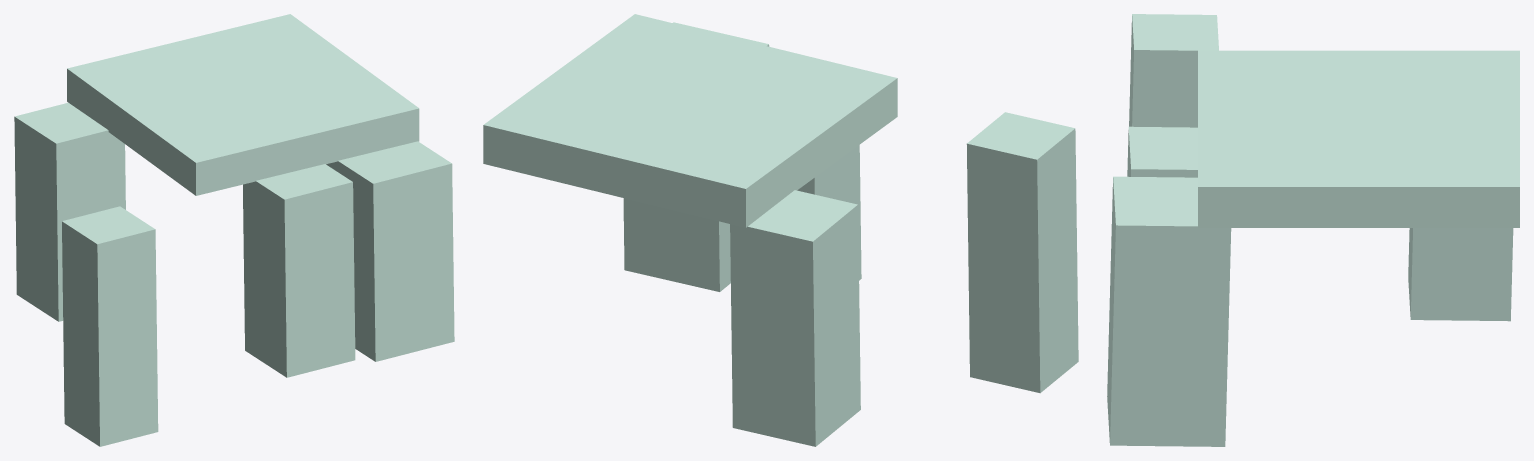
3 views of the same model, side by side, from view 1: azimuth 30°, elevation 25°; view 2: azimuth 150°, elevation 25°; view 3: azimuth 270°, elevation 25° (orthographic). The views are drawn at different scales.
Visible parts, largest first — view 1: Renderer Node; view 2: Renderer Node; view 3: Renderer Node.
Part boxes in pixels (box(x1,y1,x2,y2)): Renderer Node: box(14, 14, 454, 446); Renderer Node: box(483, 14, 1078, 446); Renderer Node: box(1107, 14, 1519, 446).
Bounding box in the file's own units: 1.3 × 0.8279 × 1.06.
